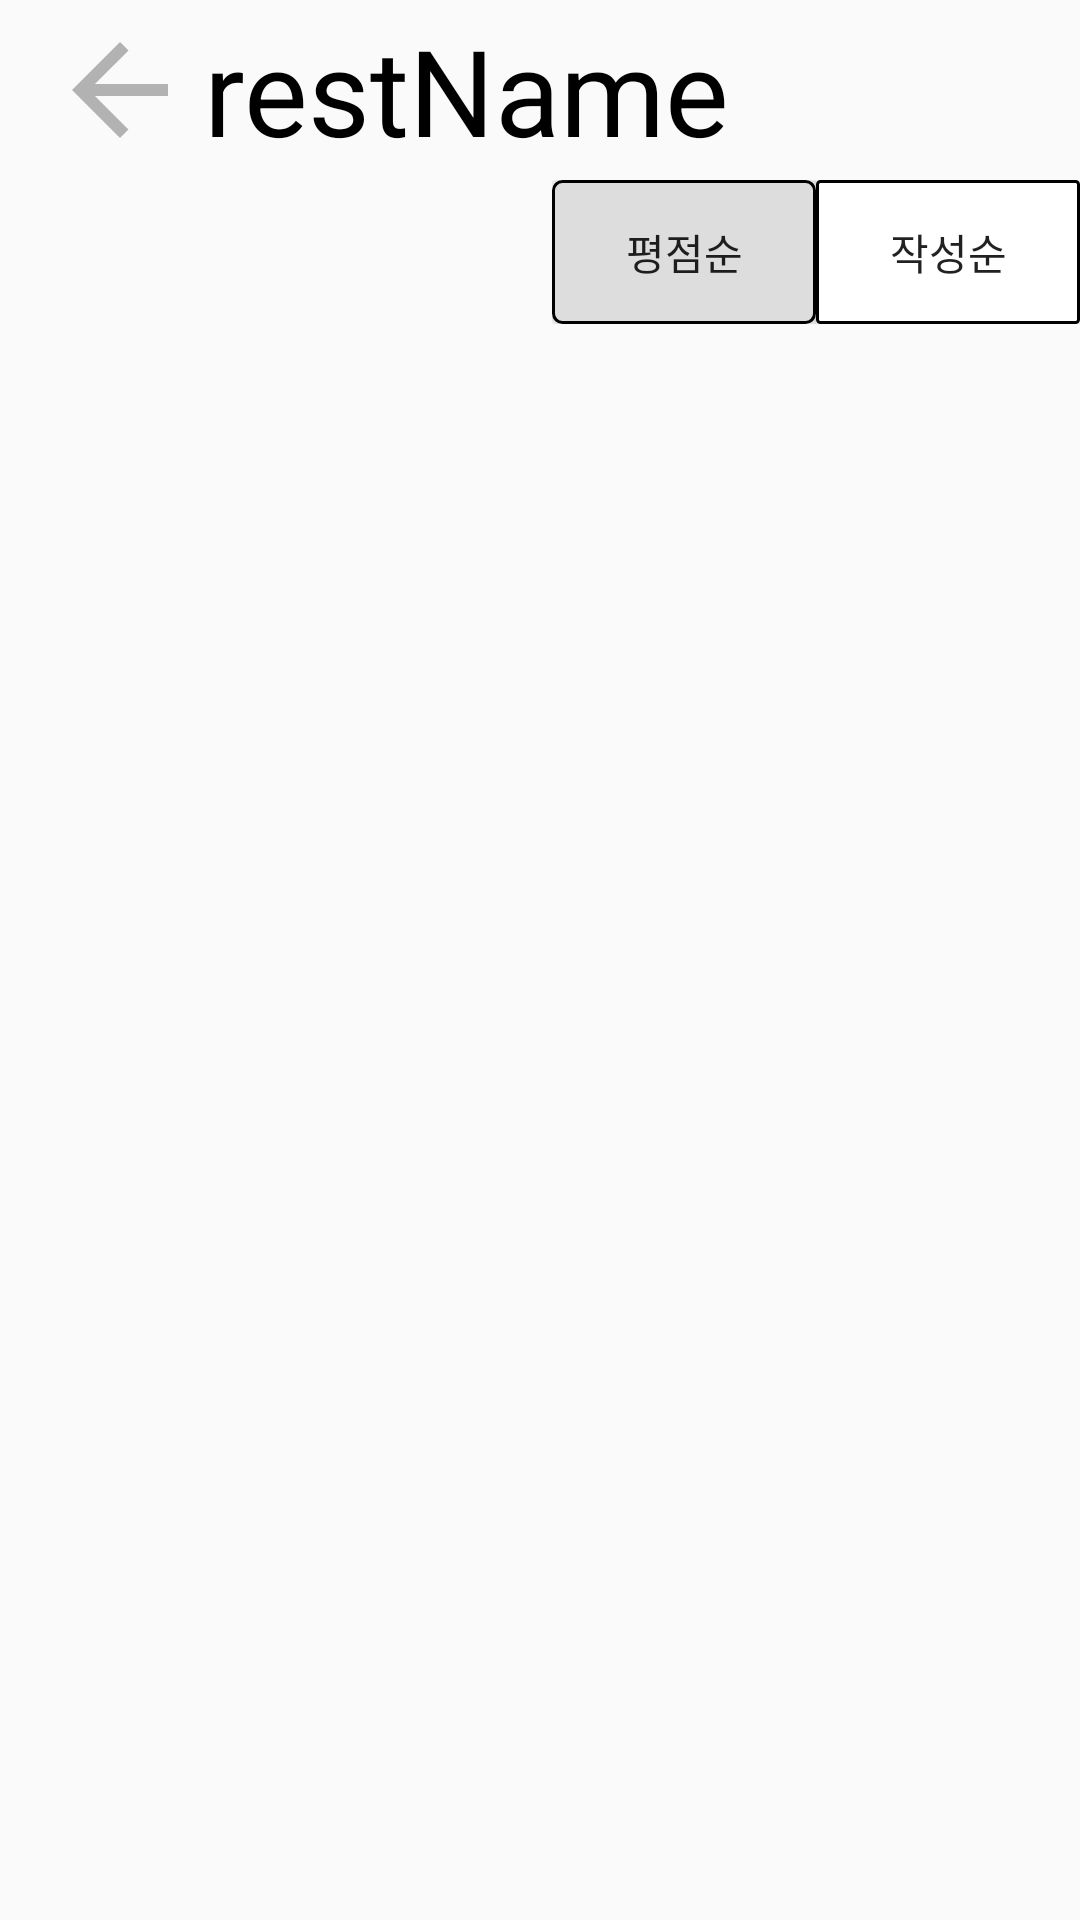

Icon bounding boxes for this 1080w x 1920h phone screenshot, format (x1, y1, x2, y2):
arrow back: (72, 42, 168, 138)
